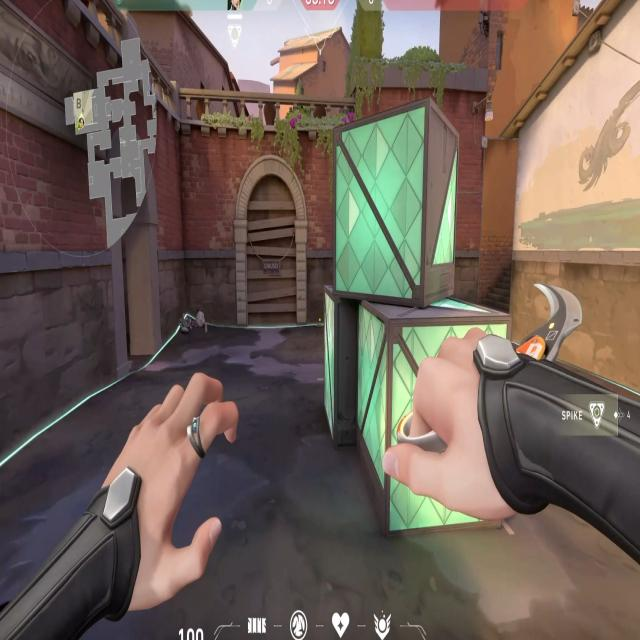B_Boathouse: (102, 126, 170, 370)
B_Site_Box: (317, 106, 510, 542)
